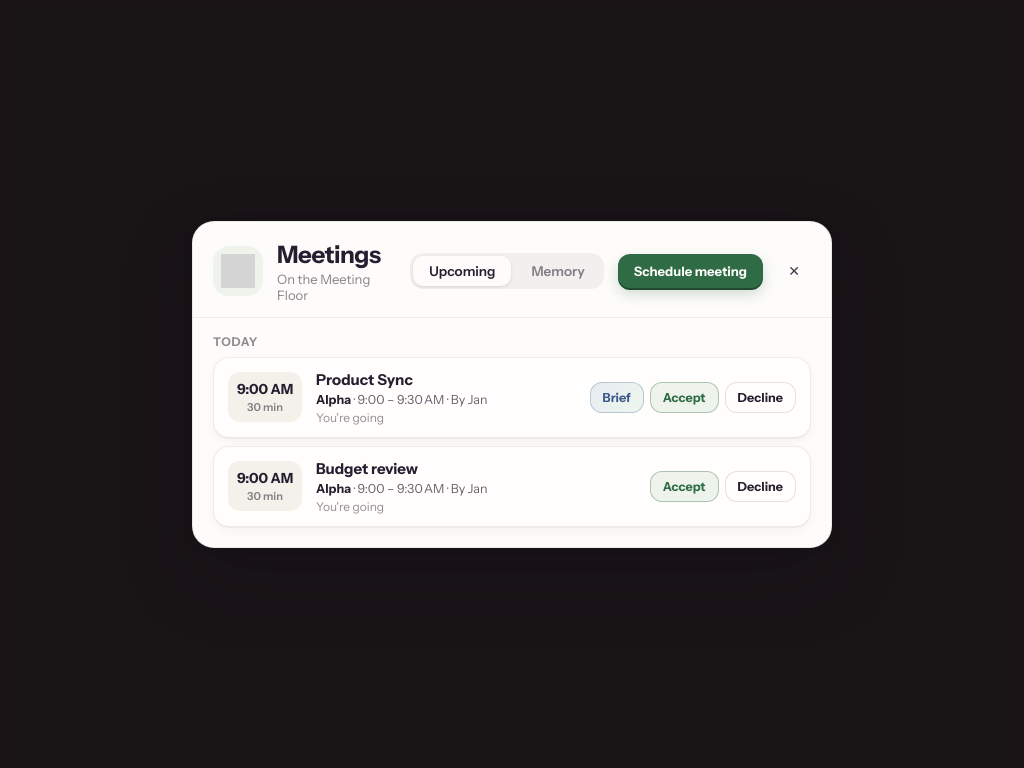
Pre-meeting Brief › an honest empty brief when there is nothing useful
What coordinates should you click on to do the following:
click the button with test id "meeting-brief"
I would click on:
 (617, 397)
Its box is [590,382,644,412].
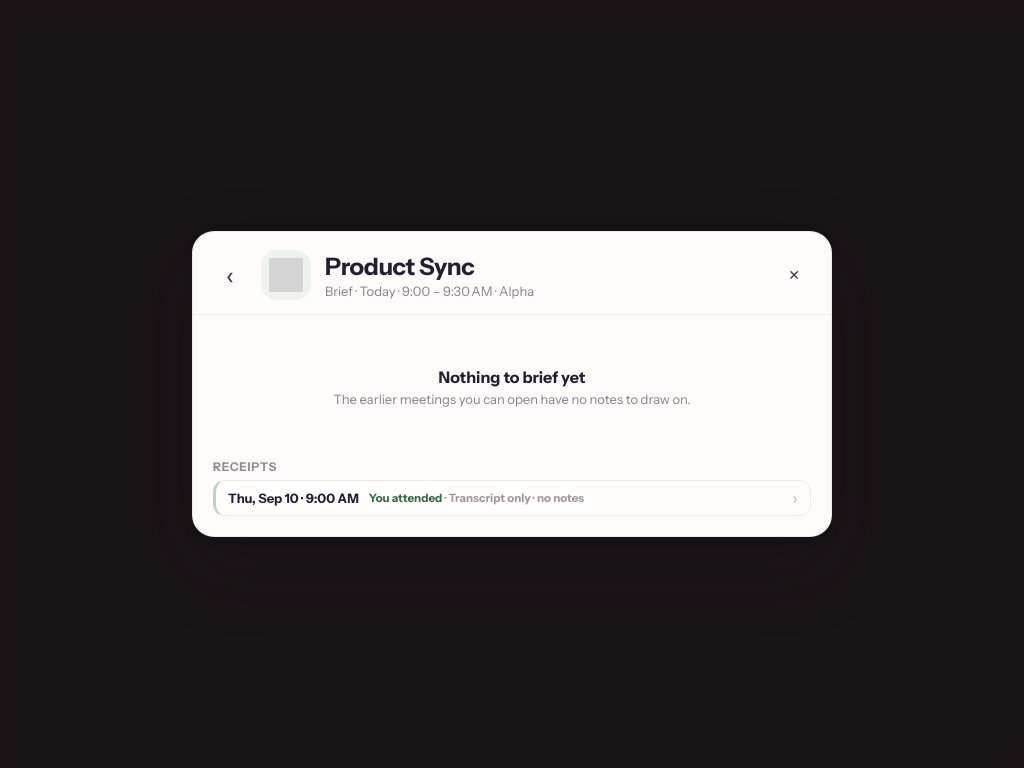
Now the element with test id "brief-empty" shows "Nothing to brief yet", box [439,367,585,387]
Now the text with test id "brief-source-notes" shows "Transcript only · no notes", box [449,491,584,505]
